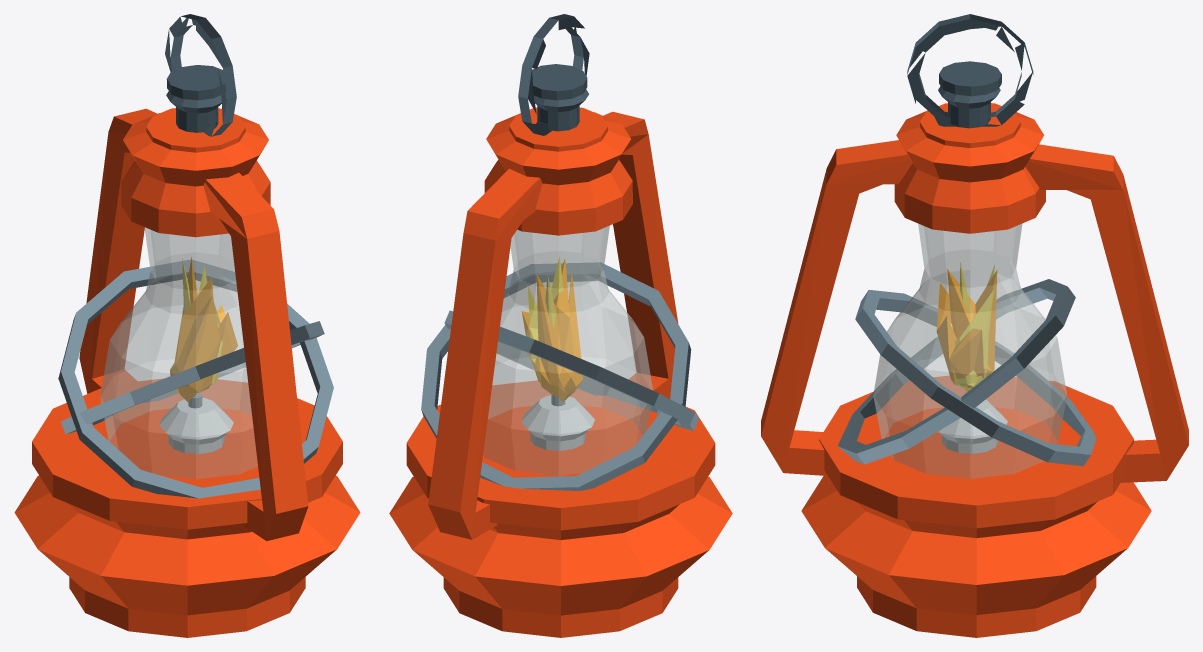
Rendered from Kerosene Lamp.glb.
3 renders of one model, left to right at view 1: azimuth 30°, elevation 25°; view 2: azimuth 150°, elevation 25°; view 3: azimuth 270°, elevation 25°, orthographic. The views are drawn at different scales.
Visible parts, largest first — view 1: Node; view 2: Node; view 3: Node.
Boxes of the visible parts, left/top/right/bottom form: Node: left=14, top=14, right=360, bottom=637; Node: left=389, top=14, right=732, bottom=637; Node: left=761, top=14, right=1188, bottom=637.
Size of the model in its own units: 0.2782 by 0.5045 by 0.3396.
